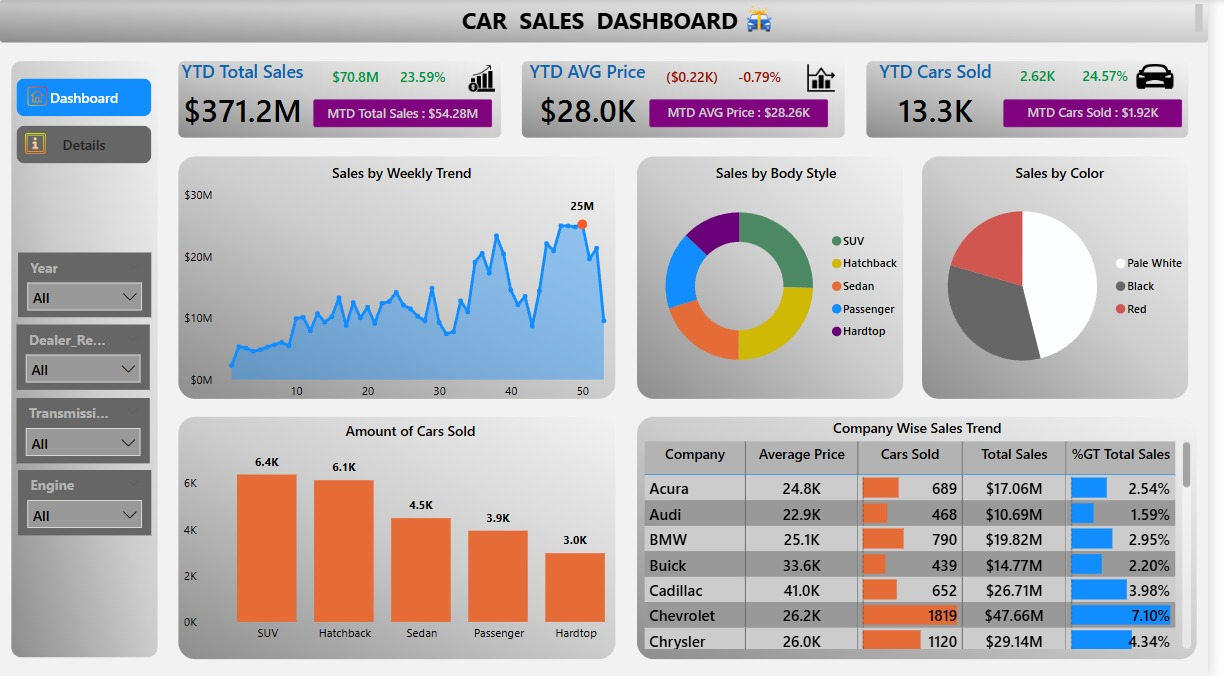

What the dashboard file says about the page in this screenshot:
{"tool":"powerbi","page":{"name":"Dashboard","canvas":[1280,720],"ordinal":0},"visuals":[{"type":"card","title":"YTD Total Sales","fields":{"Values":["car_data.YTD Total Sales"]},"box":[173.1,64.2,167.3,82.7],"z":0},{"type":"card","title":"YTD Total Sales","fields":{"Values":["car_data.Sales Difference"]},"box":[340.7,67.6,72,32.5],"z":1000},{"type":"card","title":"YTD Total Sales","fields":{"Values":["car_data.YOY Sales Growth"]},"box":[412.7,67.6,72,32.5],"z":2000},{"type":"card","fields":{"Values":["car_data.MTD KPI"]},"box":[332.6,106,189.7,29],"z":3000},{"type":"card","title":"YTD AVG Price","fields":{"Values":["car_data.YTD Average Price"]},"box":[538.8,64.2,167.3,82.7],"z":4000},{"type":"card","title":"YTD Total Sales","fields":{"Values":["car_data.AVG Price Difference"]},"box":[698.9,67.6,70.2,32.5],"z":5000},{"type":"card","title":"YTD Total Sales","fields":{"Values":["car_data.YOY AVG Growth"]},"box":[770,67.6,70.2,32.5],"z":6000},{"type":"card","fields":{"Values":["car_data.MTD AVG KPI"]},"box":[688.6,106,189.7,29.2],"z":7000},{"type":"card","title":"YTD Cars Sold","fields":{"Values":["car_data.YTD Cars Sold"]},"box":[908.4,64.2,167.3,82.7],"z":8000},{"type":"card","title":"YTD Total Sales","fields":{"Values":["car_data.Cars Sold Difference"]},"box":[1063.5,66.7,71.4,33.3],"z":9000},{"type":"card","title":"YTD Total Sales","fields":{"Values":["car_data.YOY Cars sold Growth"]},"box":[1134.9,66.7,71.4,33.3],"z":10000},{"type":"card","fields":{"Values":["car_data.MTD Count KPI"]},"box":[1064.1,106,189.7,29.2],"z":11000},{"type":"areaChart","title":" Sales by Weekly Trend","fields":{"Category":["Calendar Table.Week"],"Y":["Sum(car_data.Price ($))","car_data.Maxx Point"]},"box":[189.7,173.9,473.3,259.9],"z":12000},{"type":"donutChart","title":" Sales by Body Style","fields":{"Category":["car_data.Body Style"],"Y":["car_data.Total Sales"]},"box":[681.4,173.9,284.5,241.5],"z":13000},{"type":"pieChart","title":" Sales by Color","fields":{"Category":["car_data.Color"],"Y":["car_data.Total Sales"]},"box":[979.5,174.1,287.9,241.2],"z":14000},{"type":"clusteredColumnChart","title":"Amount of Cars Sold ","fields":{"Category":["car_data.Body Style"],"Y":["car_data.Cars Sold"]},"box":[189.7,446.9,491.7,243.2],"z":15000},{"type":"tableEx","title":"Company Wise Sales Trend","fields":{"Values":["car_data.Company","car_data.Average Price","car_data.Cars Sold","car_data.Total Sales","Divide(car_data.Total Sales, ScopedEval(car_data.Total Sales, []))"]},"box":[677,443.4,590,250.2],"z":16000},{"type":"slicer","fields":{"Values":["Calendar Table.Year"]},"box":[19.3,269.6,141.4,68.5],"z":17000},{"type":"slicer","fields":{"Values":["car_data.Dealer_Region"]},"box":[17.6,346,141.4,69.4],"z":18000},{"type":"slicer","fields":{"Values":["car_data.Transmission"]},"box":[17.6,422.3,141.4,69.4],"z":19000},{"type":"slicer","fields":{"Values":["car_data.Engine"]},"box":[19.3,499.6,141.4,69.4],"z":20000},{"type":"textbox","box":[0,0,1280,40.9],"z":21000},{"type":"pageNavigator","box":[17.6,84.3,143.1,91.3],"z":23000},{"type":"image","box":[23.7,87.8,31.6,30.7],"z":24000},{"type":"image","box":[17.6,130,39.5,45.7],"z":25000},{"type":"image","box":[1198.4,55.6,54,52.4],"z":27000},{"type":"image","box":[491.7,64.1,38.6,41.3],"z":28000},{"type":"image","box":[849.1,64.1,43,39.5],"z":29000},{"type":"image","box":[760.3,0,88.9,41.3],"z":30000}]}

Visuals, with their boxes on the page's 1280x720 design canvas (x1, y1, x2, y2). These are canvas units, not pixel positions in the 1224x676 screenshot, which may show the page scaled, cropped or inside an application window:
"YTD Total Sales" card: (173,64,340,147)
"YTD Total Sales" card: (341,68,413,100)
"YTD Total Sales" card: (413,68,485,100)
card - car_data.MTD KPI: (333,106,522,135)
"YTD AVG Price" card: (539,64,706,147)
"YTD Total Sales" card: (699,68,769,100)
"YTD Total Sales" card: (770,68,840,100)
card - car_data.MTD AVG KPI: (689,106,878,135)
"YTD Cars Sold" card: (908,64,1076,147)
"YTD Total Sales" card: (1064,67,1135,100)
"YTD Total Sales" card: (1135,67,1206,100)
card - car_data.MTD Count KPI: (1064,106,1254,135)
" Sales by Weekly Trend" areaChart: (190,174,663,434)
" Sales by Body Style" donutChart: (681,174,966,415)
" Sales by Color" pieChart: (980,174,1267,415)
"Amount of Cars Sold " clusteredColumnChart: (190,447,681,690)
"Company Wise Sales Trend" tableEx: (677,443,1267,694)
slicer - Calendar Table.Year: (19,270,161,338)
slicer - car_data.Dealer_Region: (18,346,159,415)
slicer - car_data.Transmission: (18,422,159,492)
slicer - car_data.Engine: (19,500,161,569)
textbox: (0,0,1280,41)
pageNavigator: (18,84,161,176)
image: (24,88,55,118)
image: (18,130,57,176)
image: (1198,56,1252,108)
image: (492,64,530,105)
image: (849,64,892,104)
image: (760,0,849,41)
